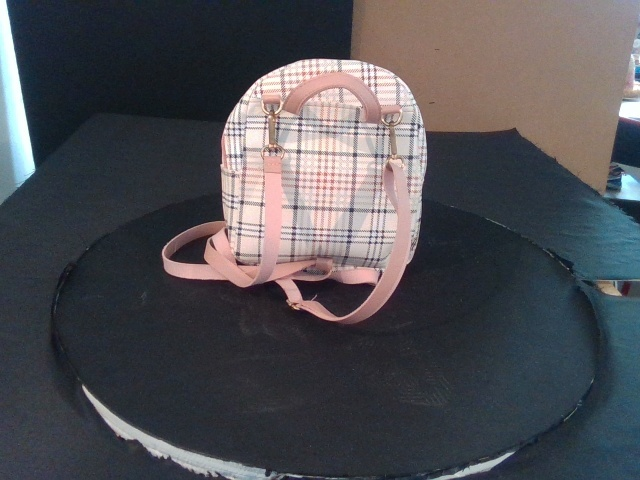bag: (220, 58, 429, 266)
